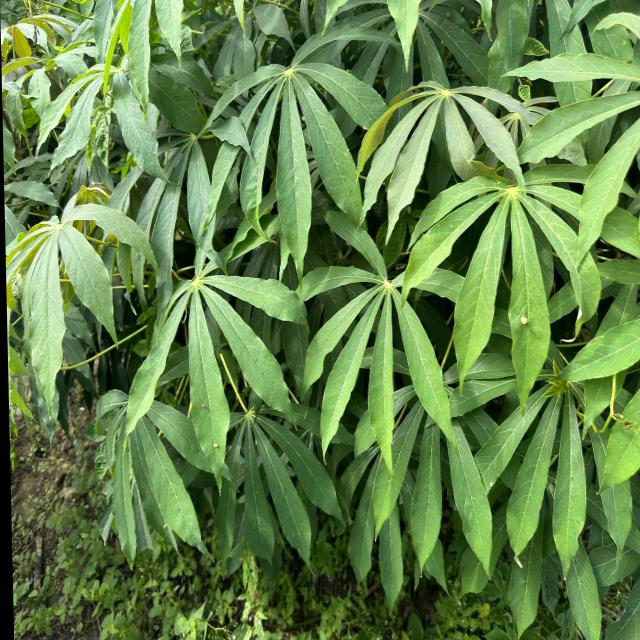Mosca: (516, 312, 533, 333), (207, 441, 224, 458), (197, 398, 209, 414)
